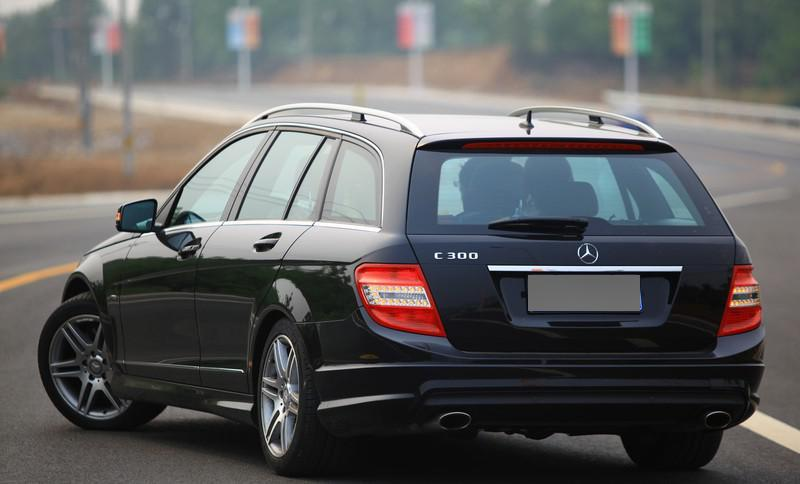Wagon: (36, 104, 767, 477)
